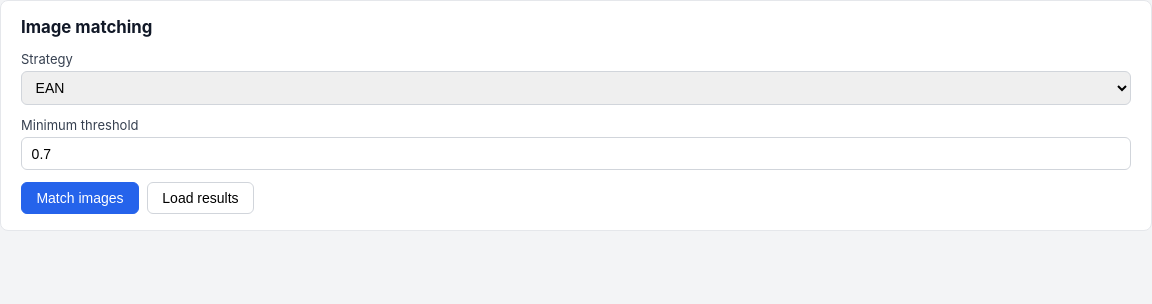
ImageMatchingPanel › shows an error when matching fails
Click the button "Match images" at (80, 198), box [21, 182, 139, 214]
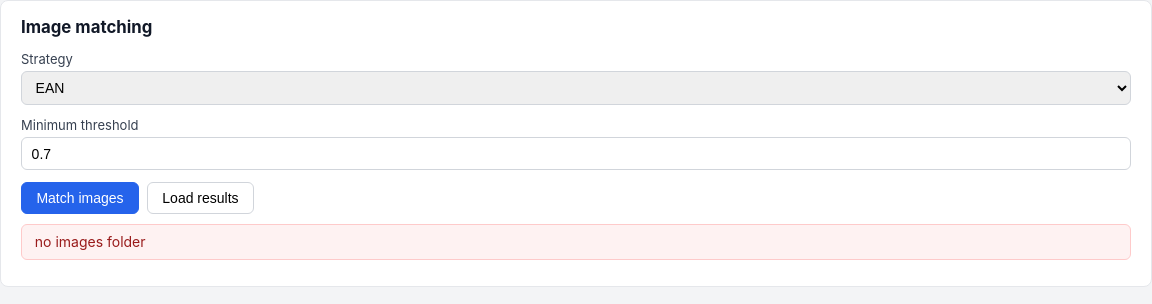
Expected: the text "no images folder" is shown, [21, 224, 1131, 260]
